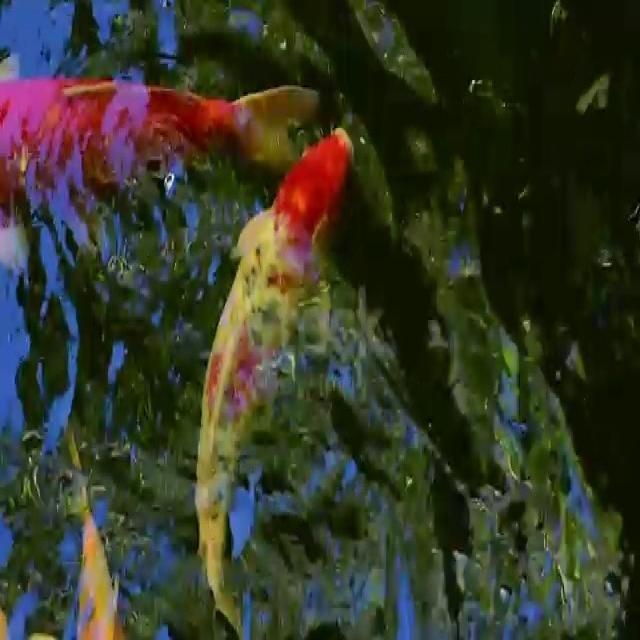fish: (197, 125, 386, 640), (0, 40, 315, 185), (59, 436, 136, 640)
